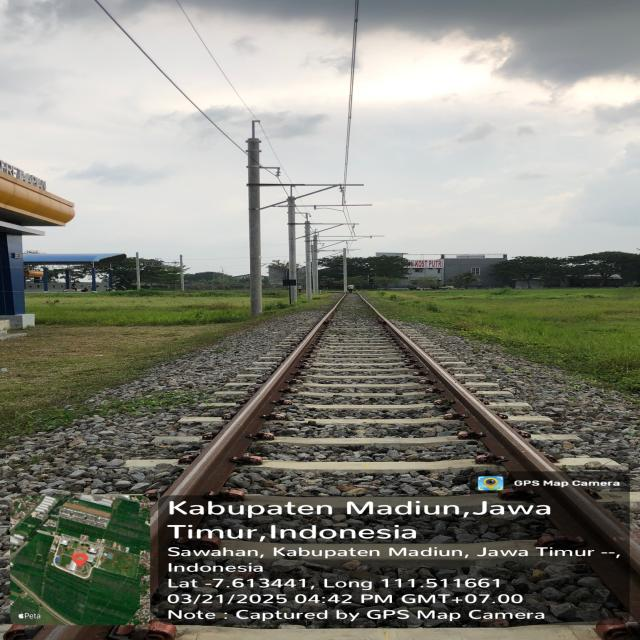rail-detection: (360, 297, 640, 621), (151, 299, 343, 585), (467, 402, 478, 408)
